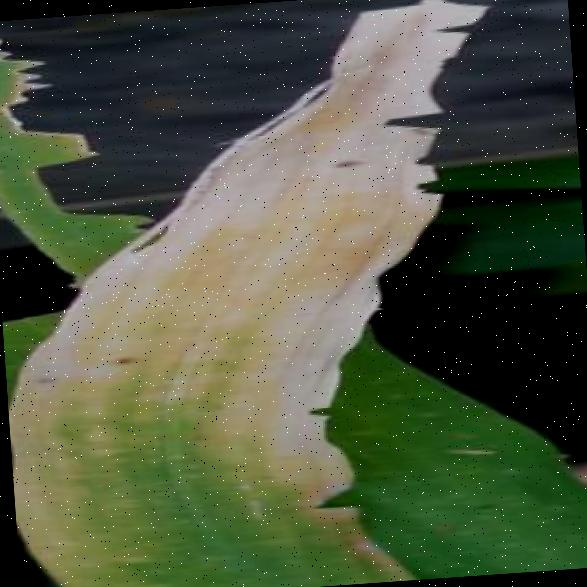Bacteria_Leaf_Blight: (0, 190, 345, 587)
